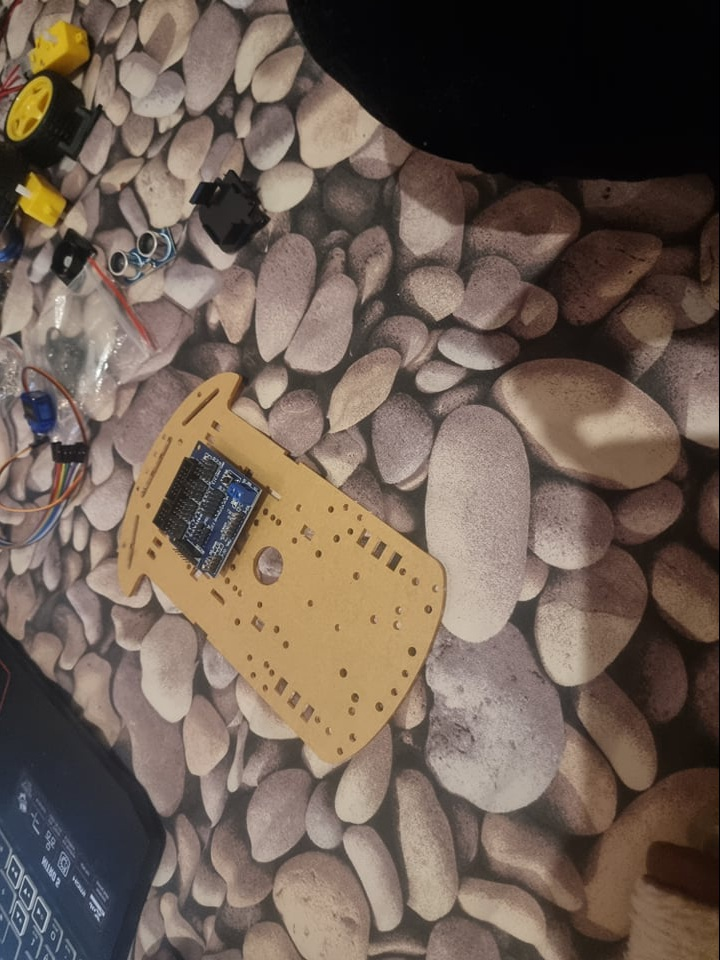5V EXPANSION: (153, 437, 265, 580)
SENSOR: (104, 225, 179, 283)
